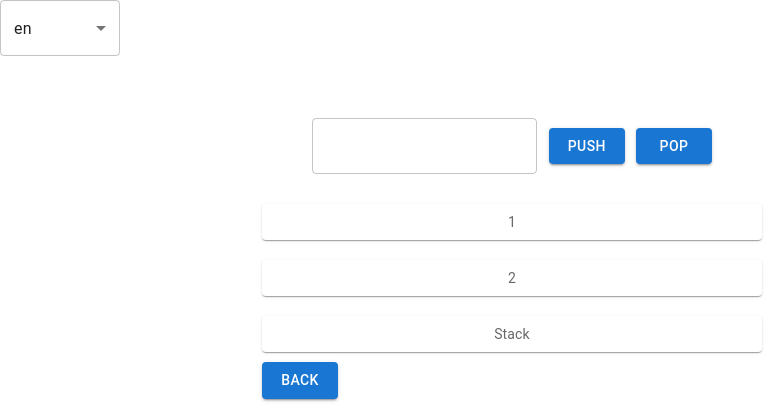
it: Testing "/stack" route › Should remove last item from list
Click the button with test id "data-list-remove-button". click: (674, 147)
box: top-left (636, 128), bottom-right (712, 165)
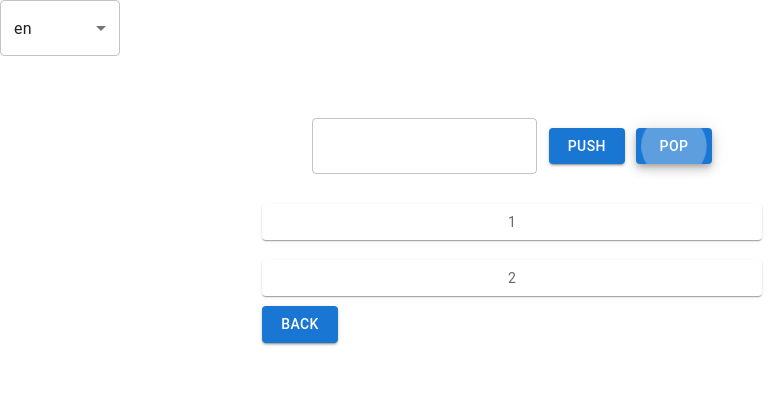
Check: the number of elements with test id "data-list-item" is 2, box top-left (262, 204), bottom-right (762, 240); top-left (262, 260), bottom-right (762, 296)
